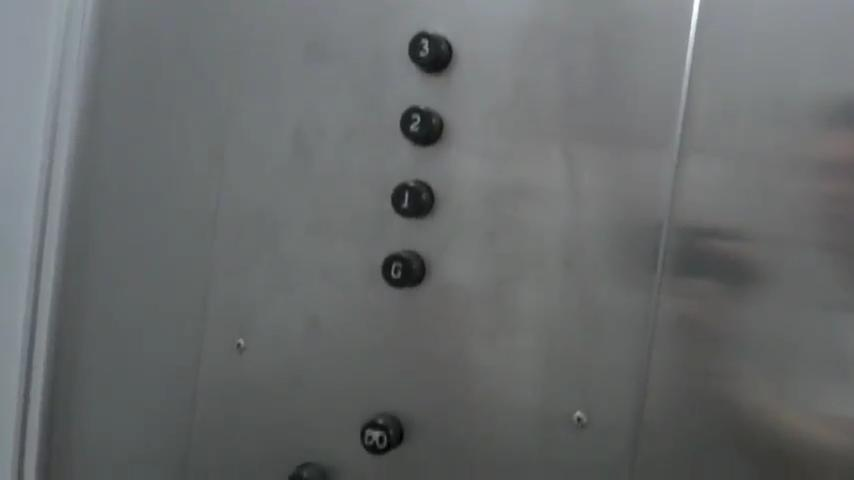1: (389, 176, 437, 220)
2: (396, 101, 444, 149)
3: (404, 28, 456, 79)
G: (379, 248, 426, 293)
unknown: (358, 413, 405, 455)
